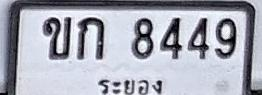4: (160, 17, 182, 59), (188, 17, 209, 59)
8: (131, 18, 153, 58)
9: (215, 18, 236, 58)
A01: (77, 16, 104, 60)
A02: (42, 16, 72, 59)
RYG: (95, 74, 166, 95)
